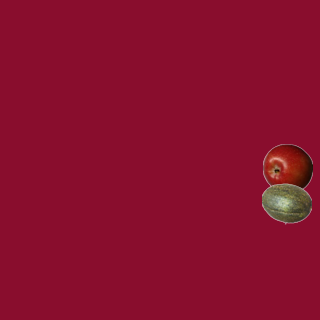Apple Braeburn: (262, 143, 312, 193)
Melon Piel de Sapo: (261, 178, 311, 228)
